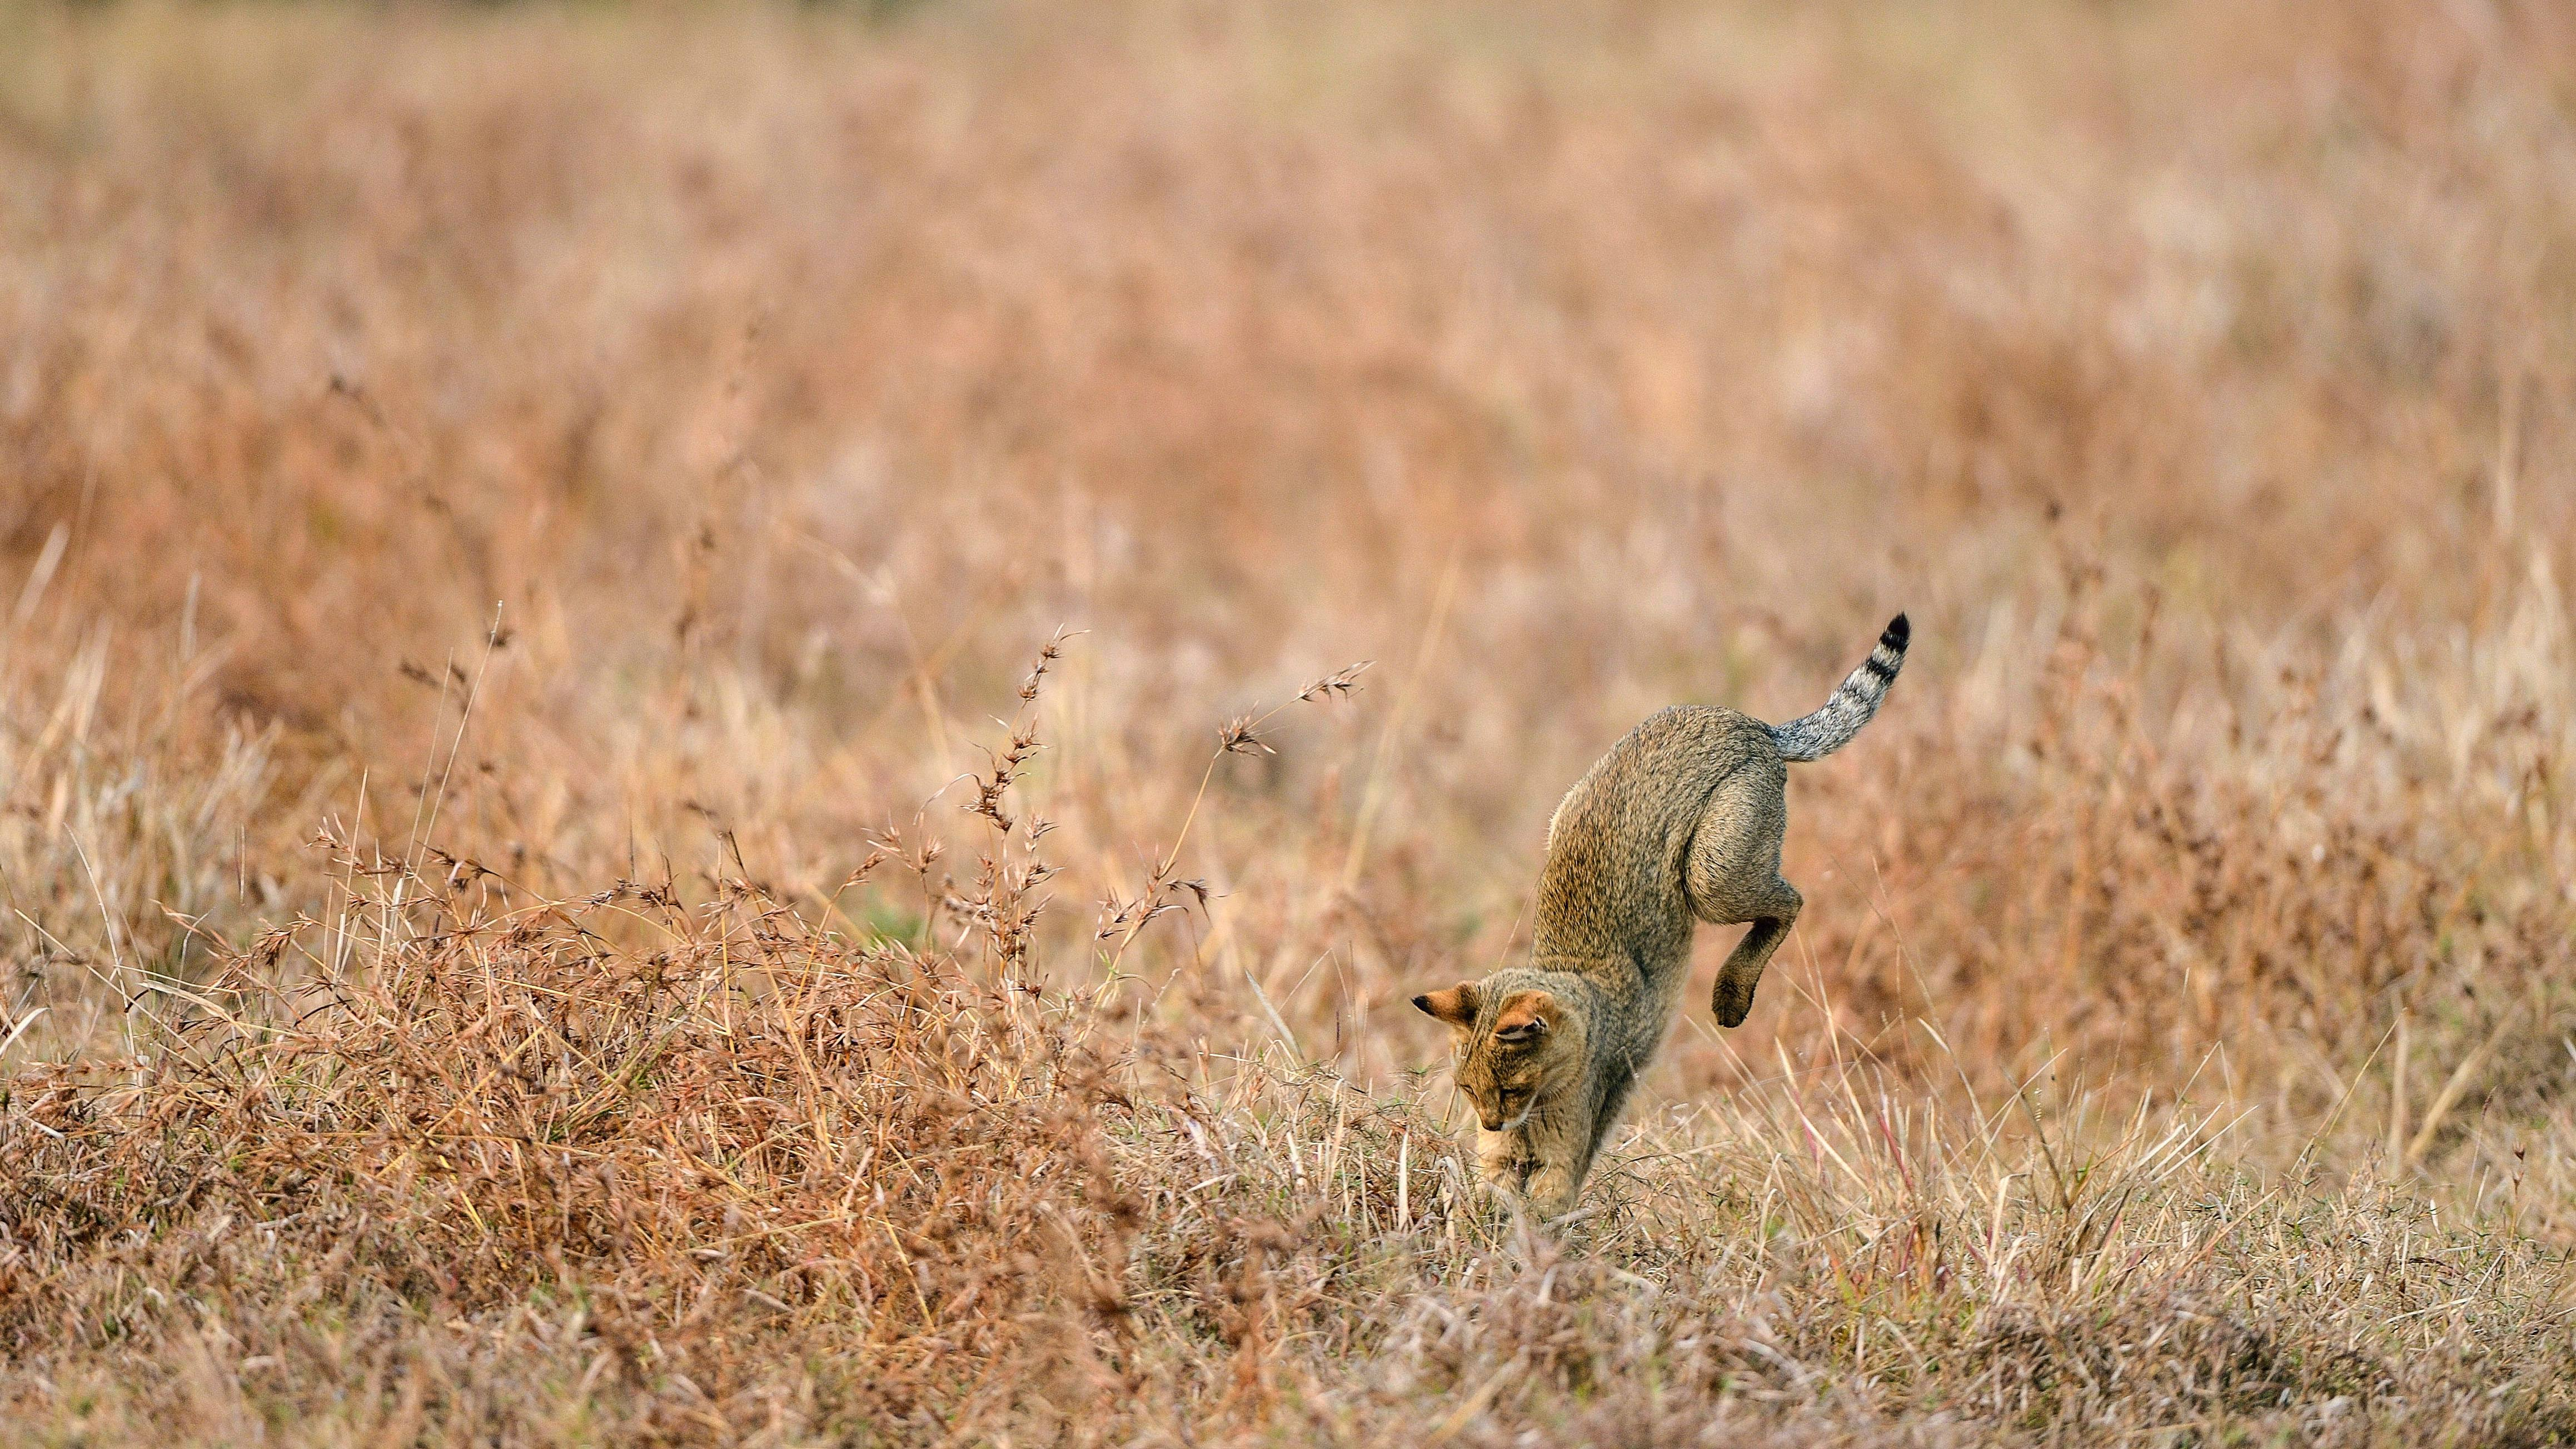cat: (1419, 602, 1920, 1254)
